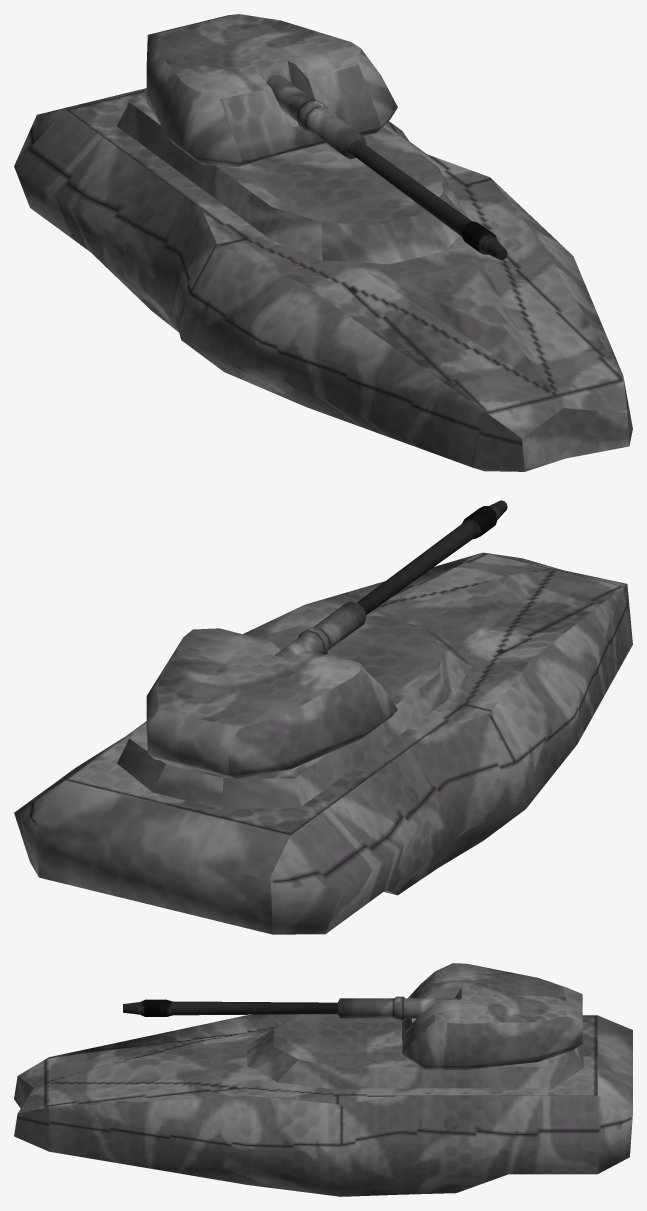
Rendered from future_armor.glb.
The picture shows the model from 3 angles, top to bottom: view 1: azimuth 30°, elevation 25°; view 2: azimuth 150°, elevation 25°; view 3: azimuth 270°, elevation 25°; orthographic projection. The views are drawn at different scales.
Parts seen in each view (by area): view 1: Box02; view 2: Box02; view 3: Box02.
Part boxes in pixels (x1,y1,x2,y2): Box02: (14, 14, 632, 471); Box02: (14, 500, 632, 934); Box02: (14, 963, 632, 1196).
Size of the model in its own units: 0.4299 by 0.2573 by 0.9146.
1 material, 1 textured.
